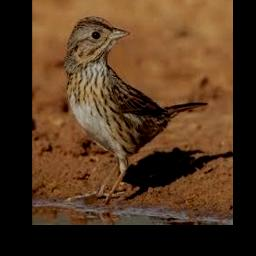Sparrow: (64, 16, 208, 203)
